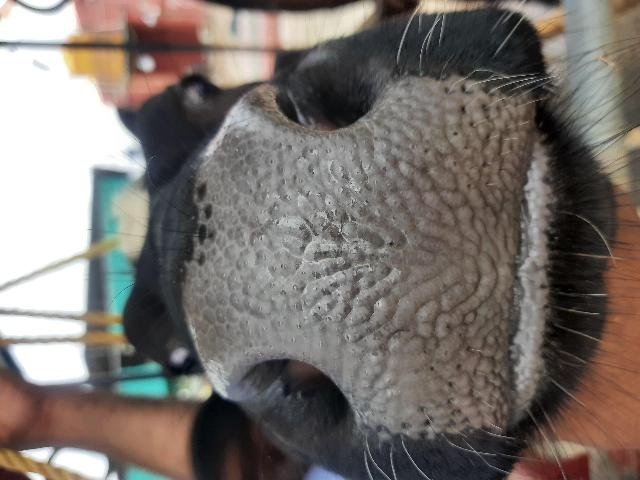Muzzle: (202, 130, 518, 390)
